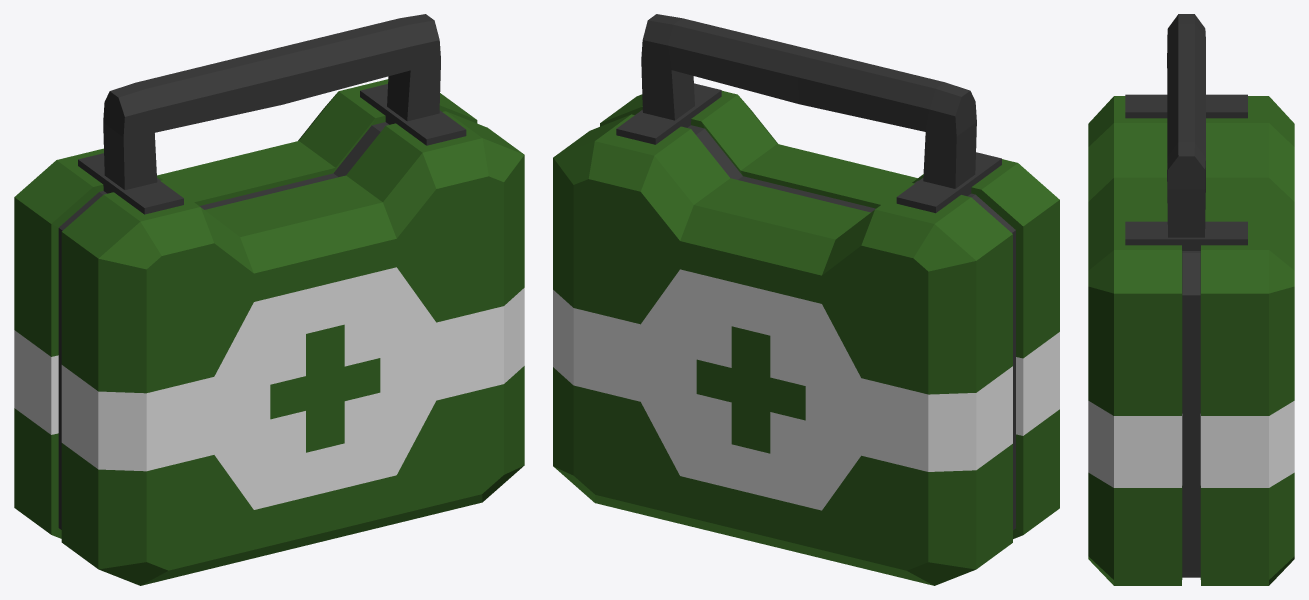
Rendered from pickup_health.glb.
3 views of the same model, side by side, from view 1: azimuth 30°, elevation 25°; view 2: azimuth 150°, elevation 25°; view 3: azimuth 270°, elevation 25° (orthographic). The views are drawn at different scales.
Visible parts, largest first — view 1: Pickup_Health; view 2: Pickup_Health; view 3: Pickup_Health.
Boxes of the visible parts, box(x1,y1,x2,y2) form: Pickup_Health: box(14, 14, 524, 585); Pickup_Health: box(553, 14, 1059, 585); Pickup_Health: box(1088, 14, 1294, 585).
Size of the model in its own units: 0.9694 by 1 by 0.4402.
1 material, 1 textured.
